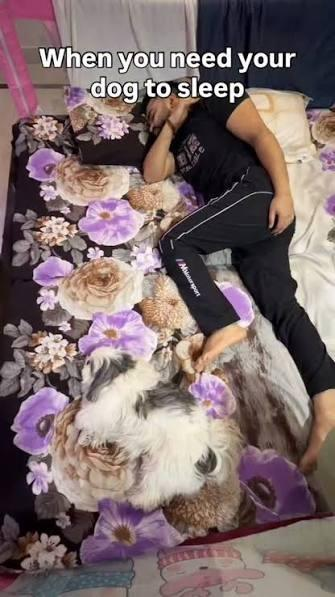adult_dog: (69, 350, 244, 533)
non-dog: (139, 79, 335, 477)
